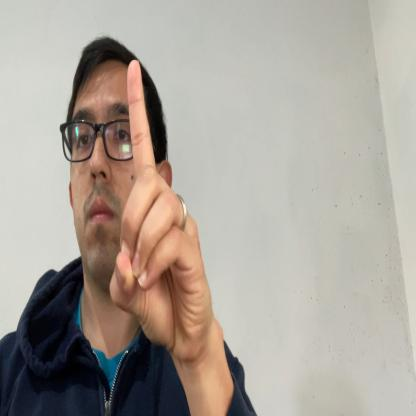D: (110, 61, 211, 355)
